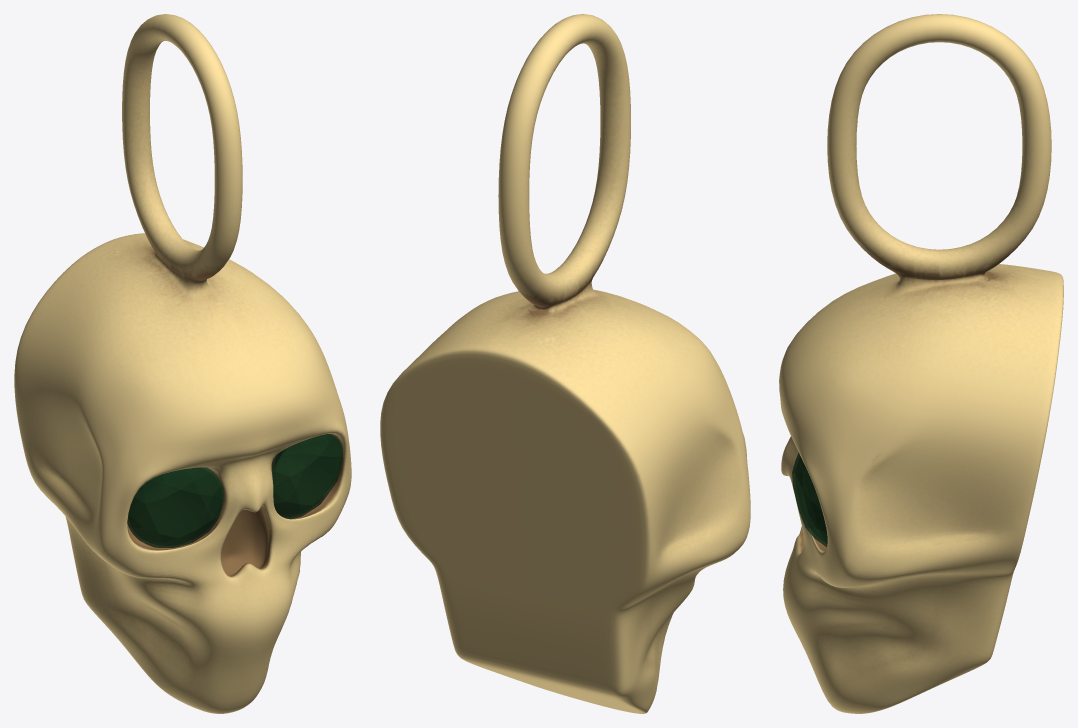
File: skull_gold.glb
3 views of the same model, side by side, from view 1: azimuth 30°, elevation 25°; view 2: azimuth 150°, elevation 25°; view 3: azimuth 270°, elevation 25° (orthographic). The views are drawn at different scales.
Parts seen in each view (by area): view 1: skull_low, stones; view 2: skull_low; view 3: skull_low, stones.
Boxes of the visible parts, x1,y1,x2,y2 form: skull_low: (14,14,351,713); stones: (127,434,342,547); skull_low: (380,14,750,713); skull_low: (779,14,1063,713); stones: (792,452,827,547).
Size of the model in its own units: 0.00561 by 0.0141 by 0.00527.
2 materials, 2 textured.
